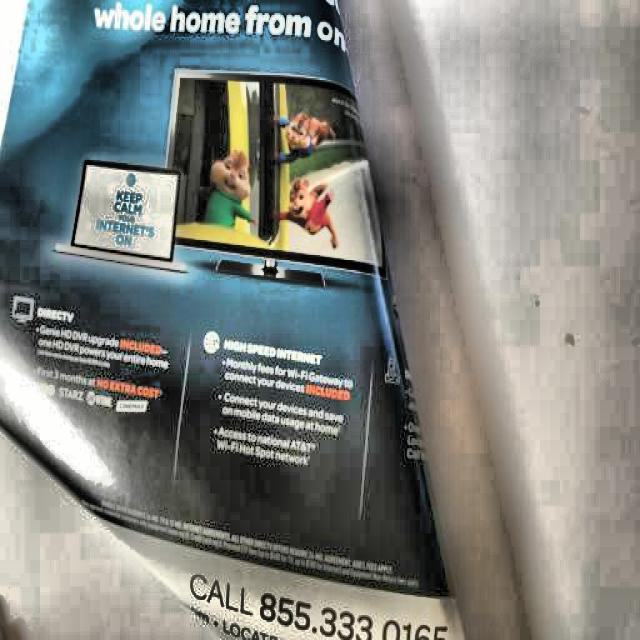paper: (2, 0, 484, 640)
